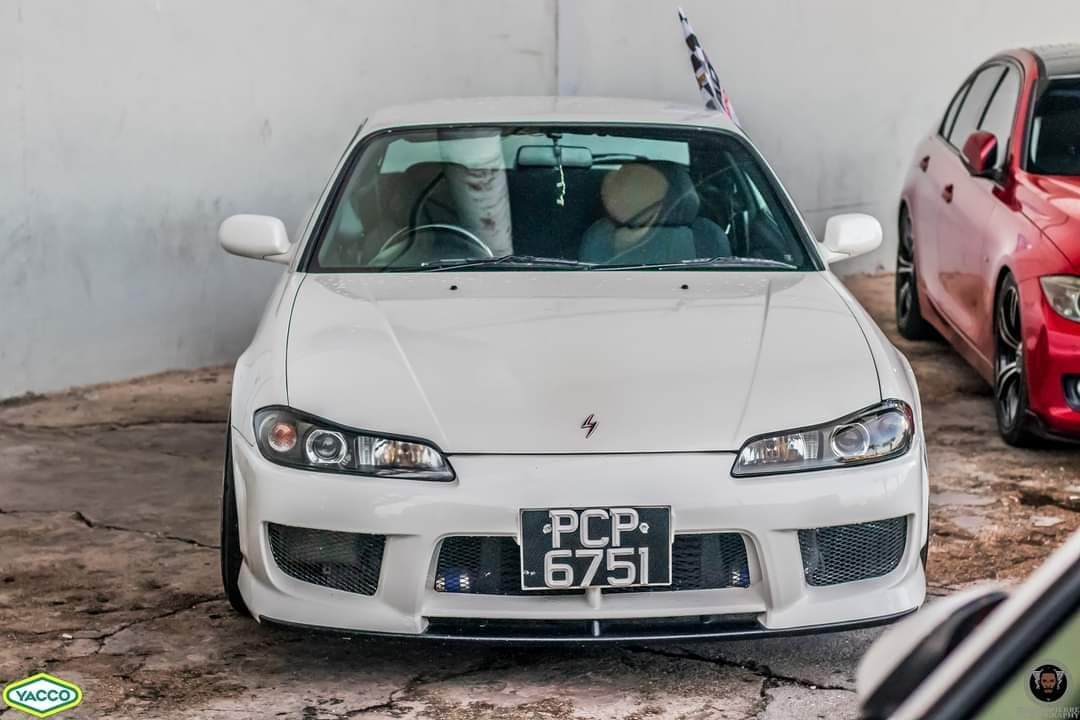License-Plate: (520, 510, 668, 588)
